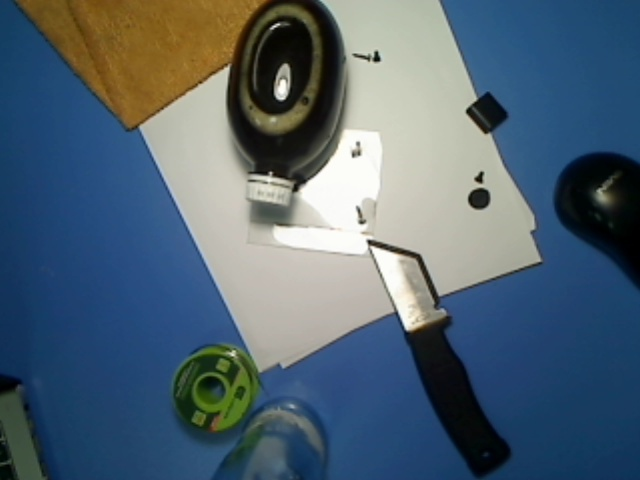plast_bottle: (224, 1, 351, 212)
